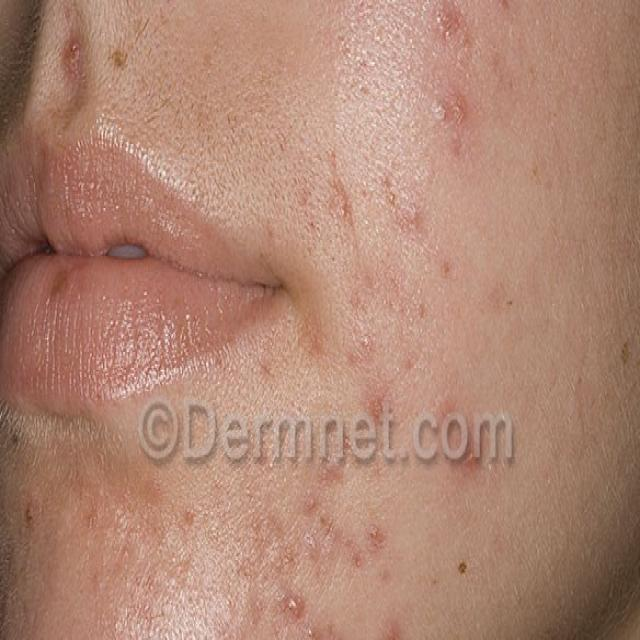Acne: (229, 400, 430, 640), (375, 6, 526, 235)
